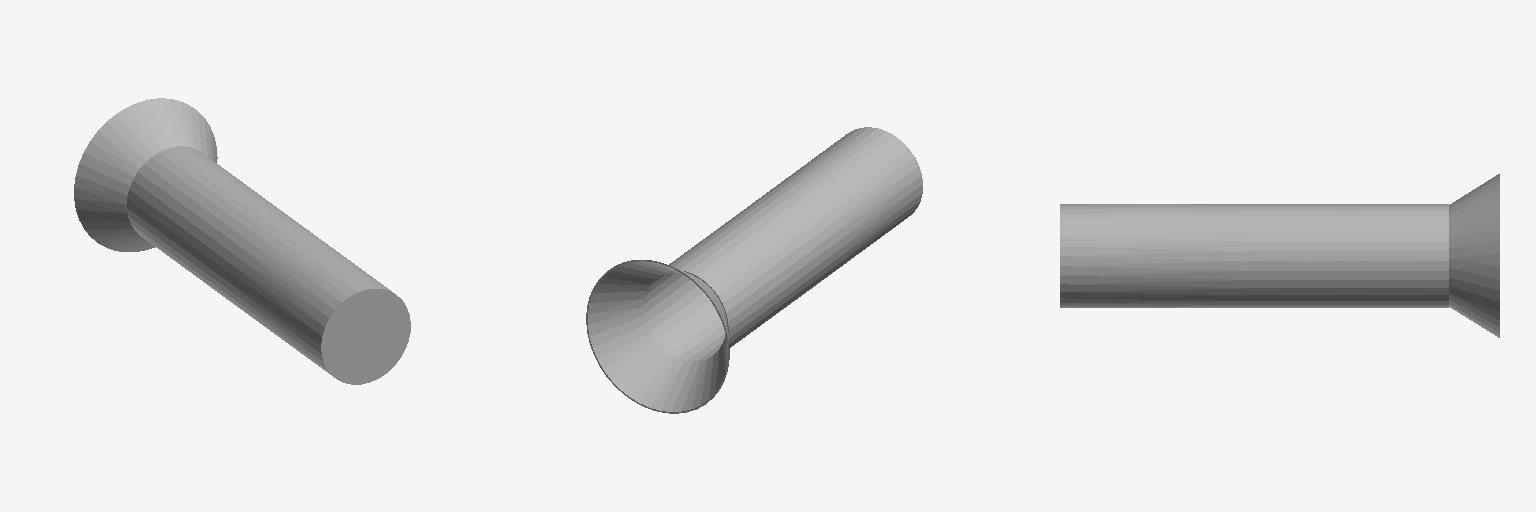
Rendered from booster.obj.
3 renders of one model, left to right at view 1: azimuth 30°, elevation 25°; view 2: azimuth 150°, elevation 25°; view 3: azimuth 270°, elevation 25°, orthographic.
Parts seen in each view (by area): view 1: Object.1; view 2: Object.1; view 3: Object.1.
Part boxes in pixels (bbox=[...]): Object.1: bbox=[74, 98, 410, 384]; Object.1: bbox=[586, 127, 922, 413]; Object.1: bbox=[1060, 174, 1499, 337].
Size of the model in its own units: 205 by 205 by 546.